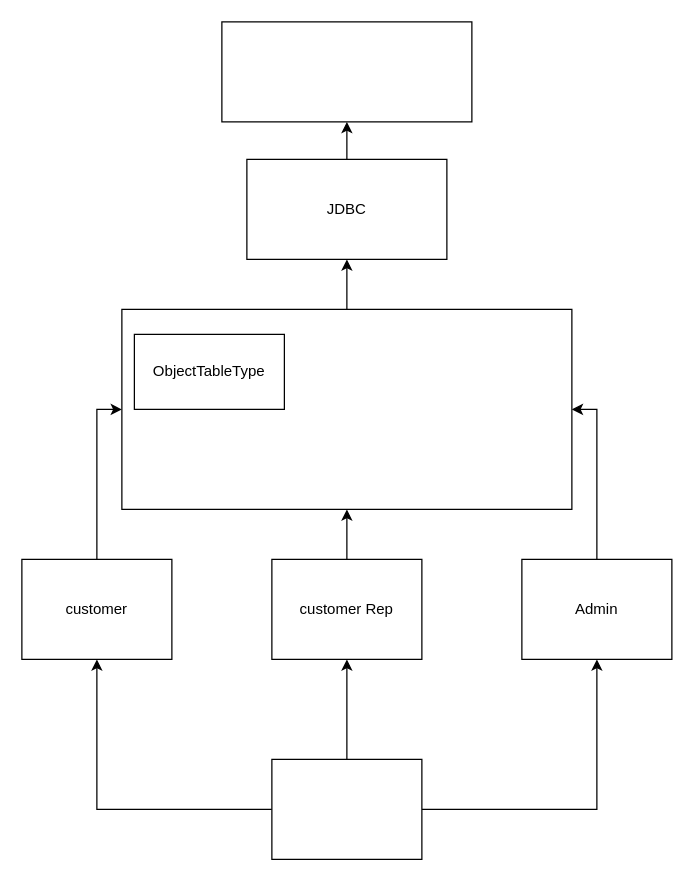
Image size: 694x881. Some labels were removed from this diagram. The shapes that lost their labels are listed below. From the top down, each one's box as (x1, y1, x2, y2) in pixels, then its label:
(221, 21, 472, 122): Database
(121, 308, 572, 509): Service
(271, 758, 422, 859): UI
